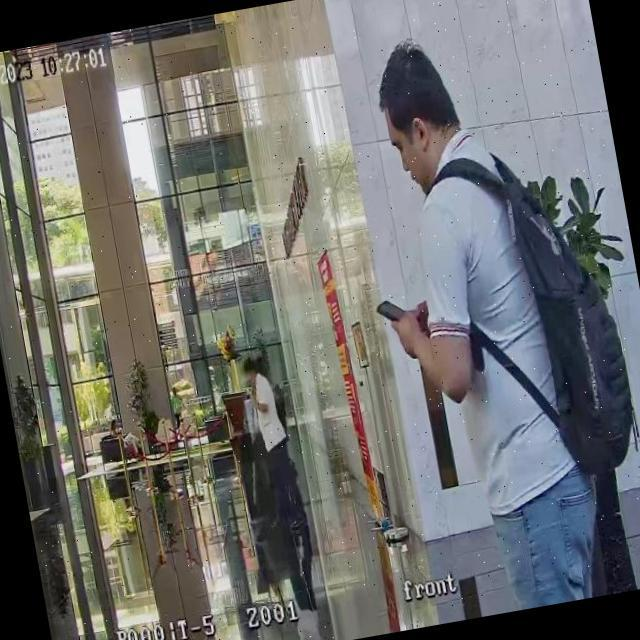person: (340, 14, 640, 623), (238, 346, 324, 616), (108, 414, 148, 464), (168, 386, 186, 439)
